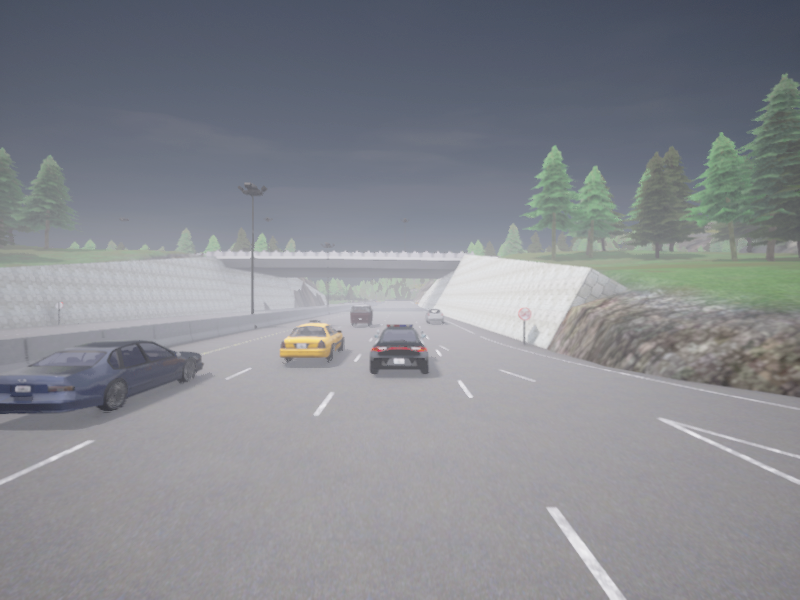vehicle: (0, 340, 203, 413), (369, 324, 428, 372), (280, 320, 343, 361), (351, 304, 373, 325), (425, 309, 443, 323)
